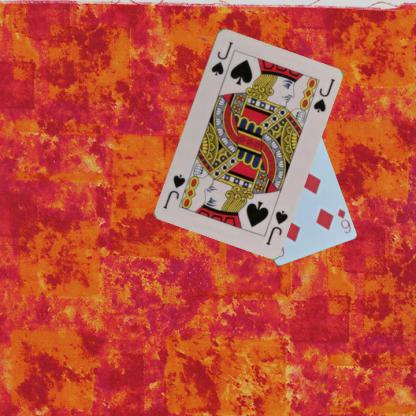6d: (334, 206, 352, 235)
Js: (263, 207, 289, 246), (208, 39, 234, 77)
